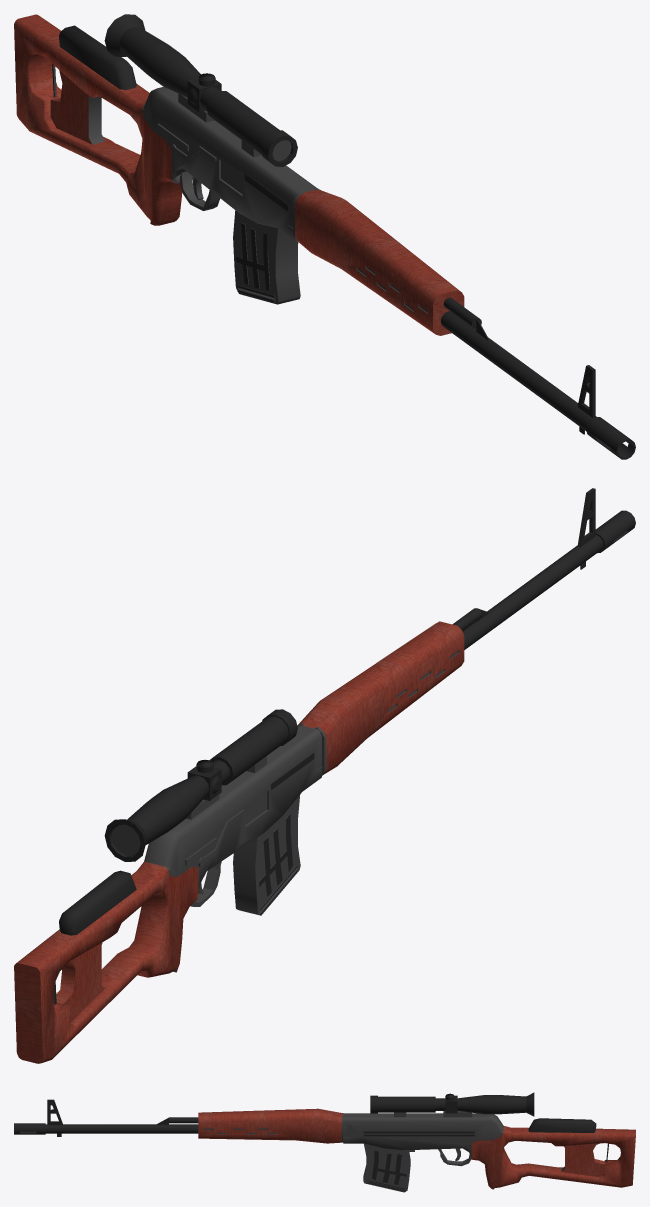
Rendered from Dragunov.fbx.
3 renders of one model, top to bottom at view 1: azimuth 30°, elevation 25°; view 2: azimuth 150°, elevation 25°; view 3: azimuth 270°, elevation 25°, orthographic. The views are drawn at different scales.
Visible parts, largest first — view 1: spiner1; view 2: spiner1; view 3: spiner1.
Boxes of the visible parts, box(x1,y1,x2,y2) form: spiner1: box(14, 14, 635, 459); spiner1: box(14, 488, 635, 1063); spiner1: box(14, 1092, 635, 1192).
Size of the model in its own units: 0.8105 by 3.51 by 20.58.
